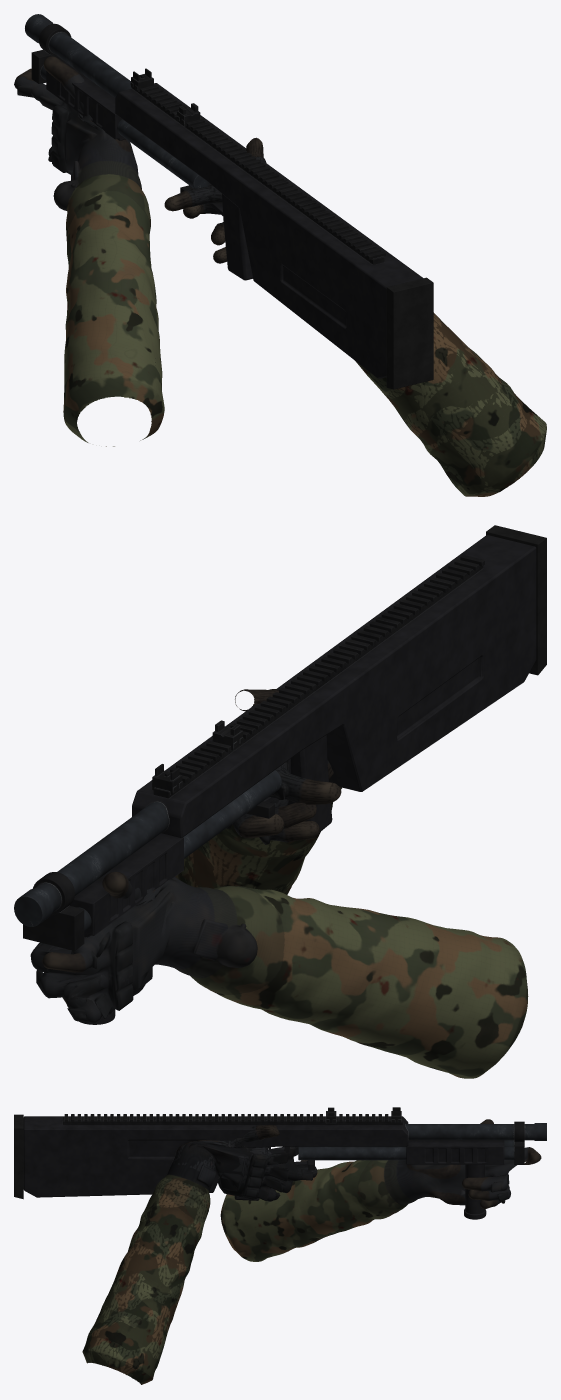
Rendered from ksg.gltf.
The picture shows the model from 3 angles, top to bottom: view 1: azimuth 30°, elevation 25°; view 2: azimuth 150°, elevation 25°; view 3: azimuth 270°, elevation 25°; orthographic projection. The views are drawn at different scales.
Parts seen in each view (by area): view 1: Body, ArmL, Slide; view 2: Body, ArmL, Slide; view 3: Body, ArmL, Slide.
Boxes of the visible parts, x1=… form: Body: x1=25, y1=14, x2=546, y2=496; ArmL: x1=14, y1=56, x2=164, y2=446; Slide: x1=46, y1=60, x2=125, y2=180; Body: x1=14, y1=525, x2=546, y2=950; ArmL: x1=30, y1=871, x2=528, y2=1078; Slide: x1=70, y1=833, x2=183, y2=1024; Body: x1=14, y1=1107, x2=546, y2=1384; ArmL: x1=220, y1=1119, x2=541, y2=1261; Slide: x1=406, y1=1140, x2=504, y2=1219.
Size of the model in its own units: 0.4696 by 0.3756 by 0.815.
Materials: 2 (2 with a texture image).
